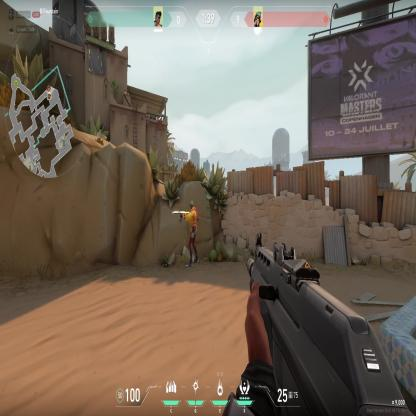enemy: (179, 198, 201, 269)
